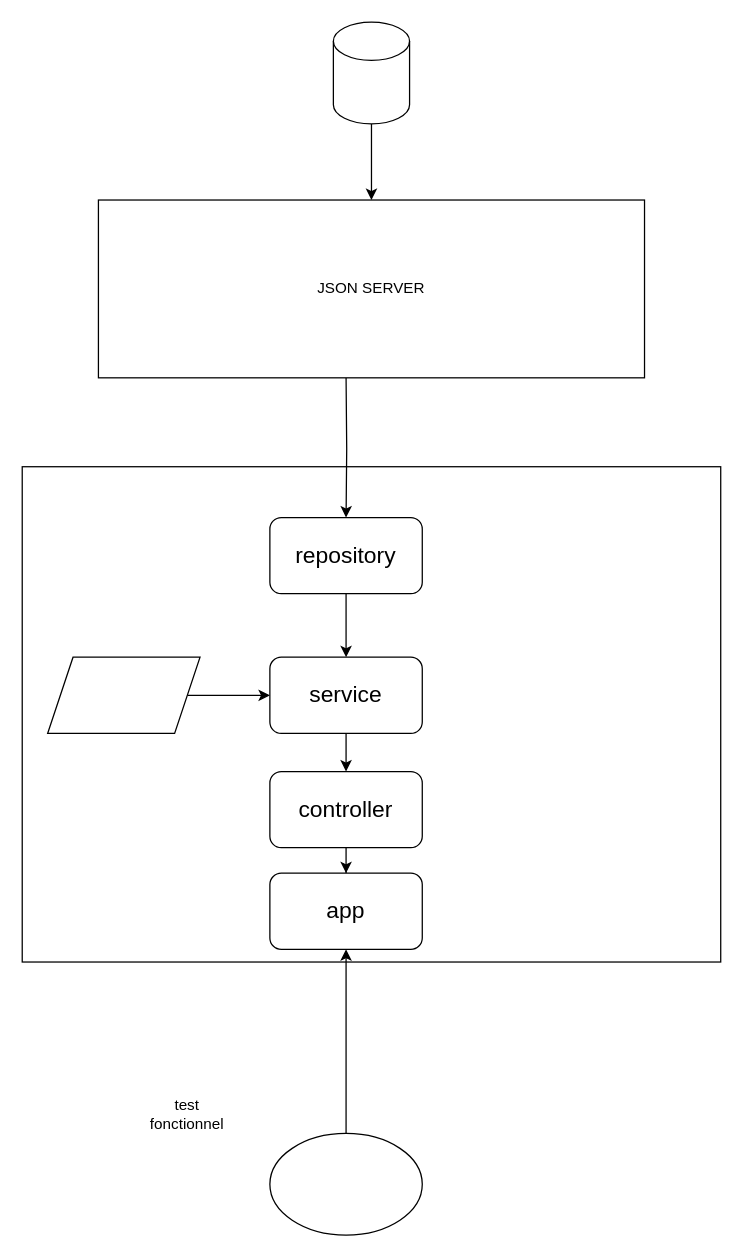
This 743x1257 diagram has some shape labels left out. The shapes that lost their labels are listed below. From the top down, each one's box as (x1, y1, x2, y2) in pixels, then its label:
(46, 656, 200, 733): model
(269, 1132, 422, 1235): Postman
